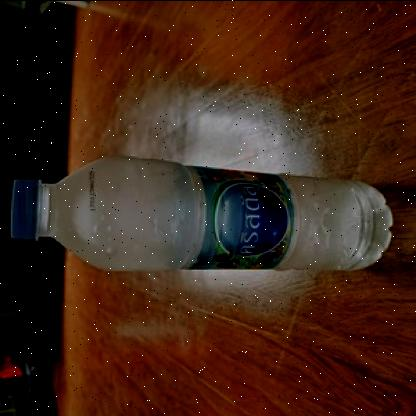Plastic Bottle: (11, 155, 393, 270)
